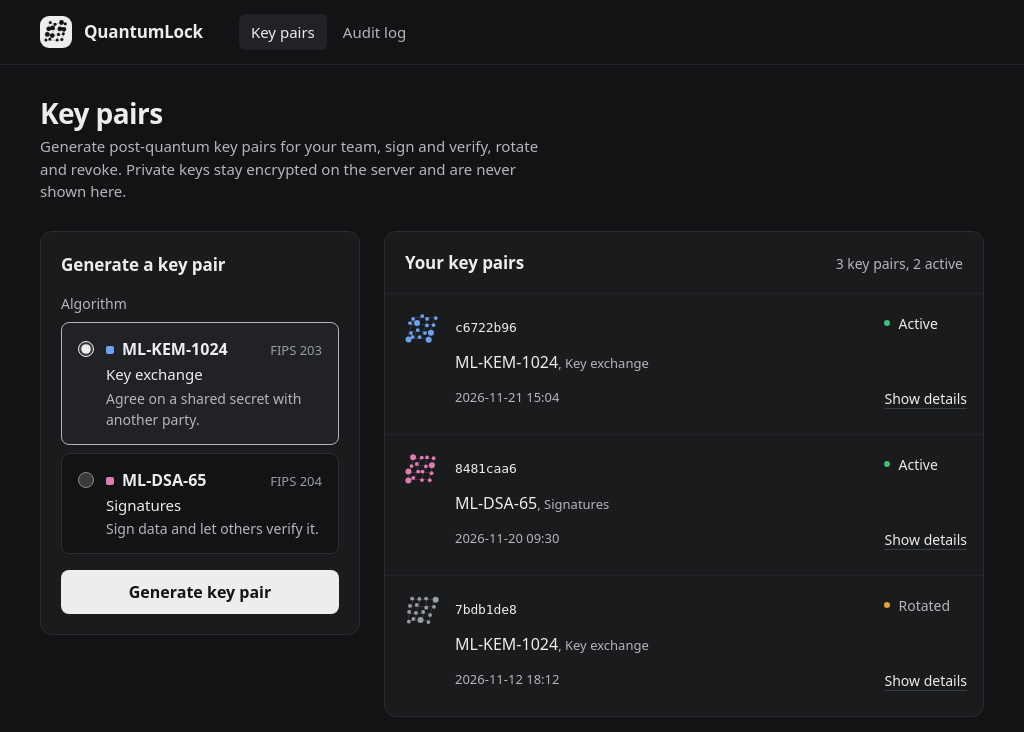
Test case: Key list with glyphs › shows a glyph beside each key ID and plays the settle animation only for the key just generated
The image size is (1024, 732).
Click the button "Generate key pair": (200, 592) [61, 570, 339, 614]
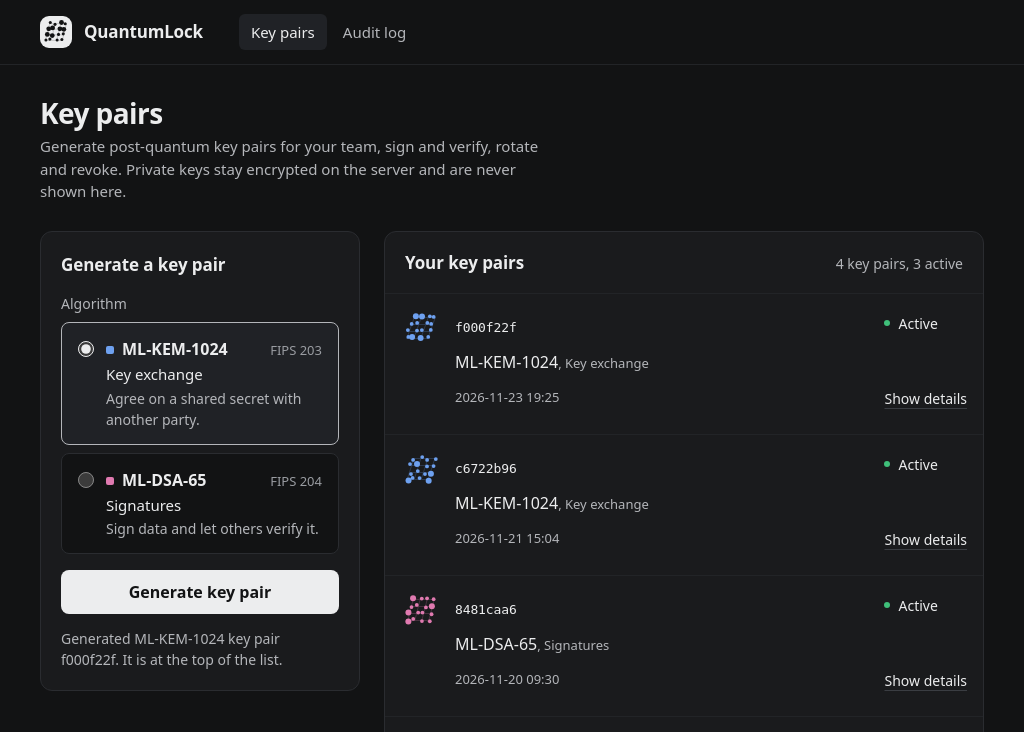
Expected: the text "Generated ML-KEM-1024 key pair f000f22f. It is at the top of the list." is shown, [61, 629, 282, 669]
Expected: the number of icons with class "glyph-settle" is 1, [401, 308, 441, 348]
Expected: the text "4 key pairs, 3 active" is shown, [836, 253, 963, 274]
